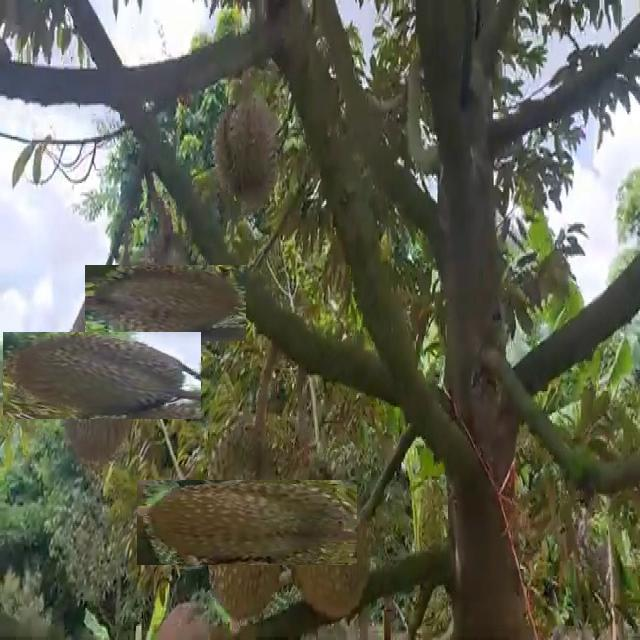durian: (170, 446, 323, 598), (30, 304, 174, 446), (284, 442, 370, 619), (107, 244, 226, 362), (212, 90, 284, 222)
